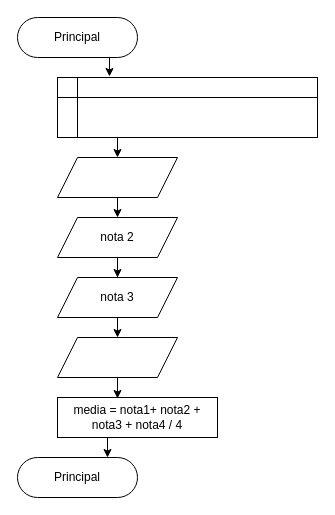
Some shapes in this 335 by 515 pixel diagram are drawn without their labels. Here are the shapes that lost their labels. From the top down, the centre of each, then its label:
point (187, 107): Real nota1, nota2, nota3, nota4, media
point (117, 177): nota 1
point (117, 357): nota 4
